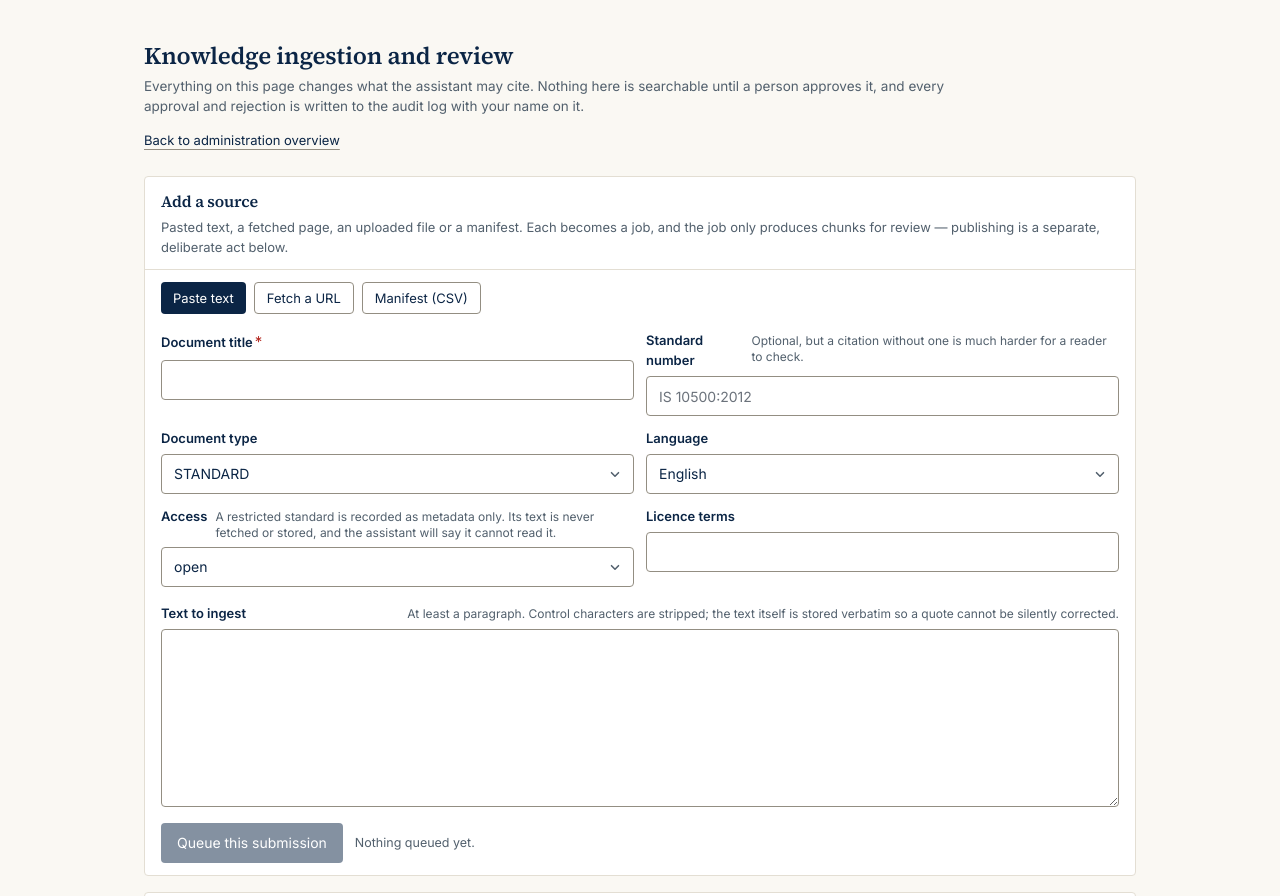
Test: the knowledge admin page › renders a throttled submission as a rate limit, with the server message
Click the button "Fetch a URL" at coordinates (304, 298), box [254,282,354,314]
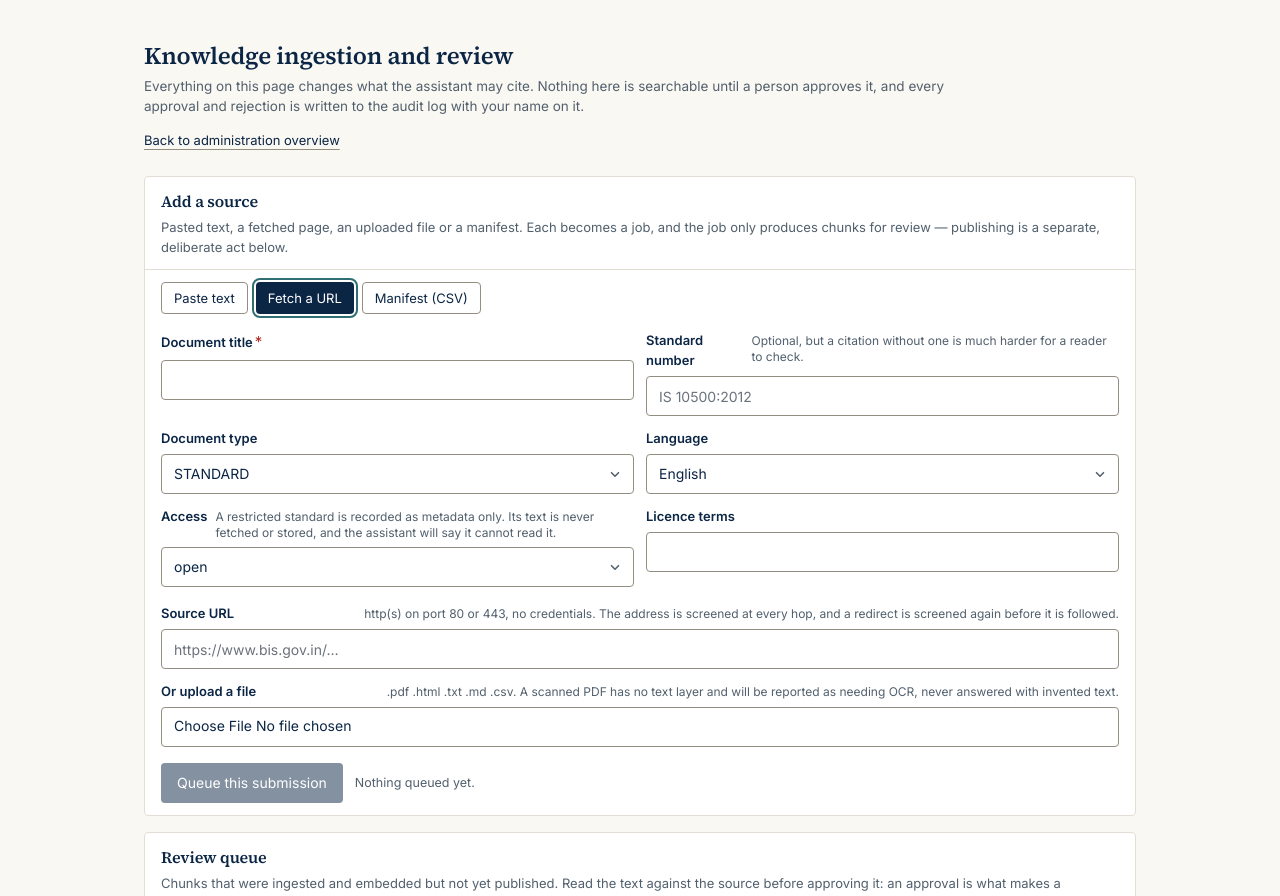
Type "IS 4029:2010" into the field labelled "Document title" at coordinates (398, 380), box [161,360,634,400]
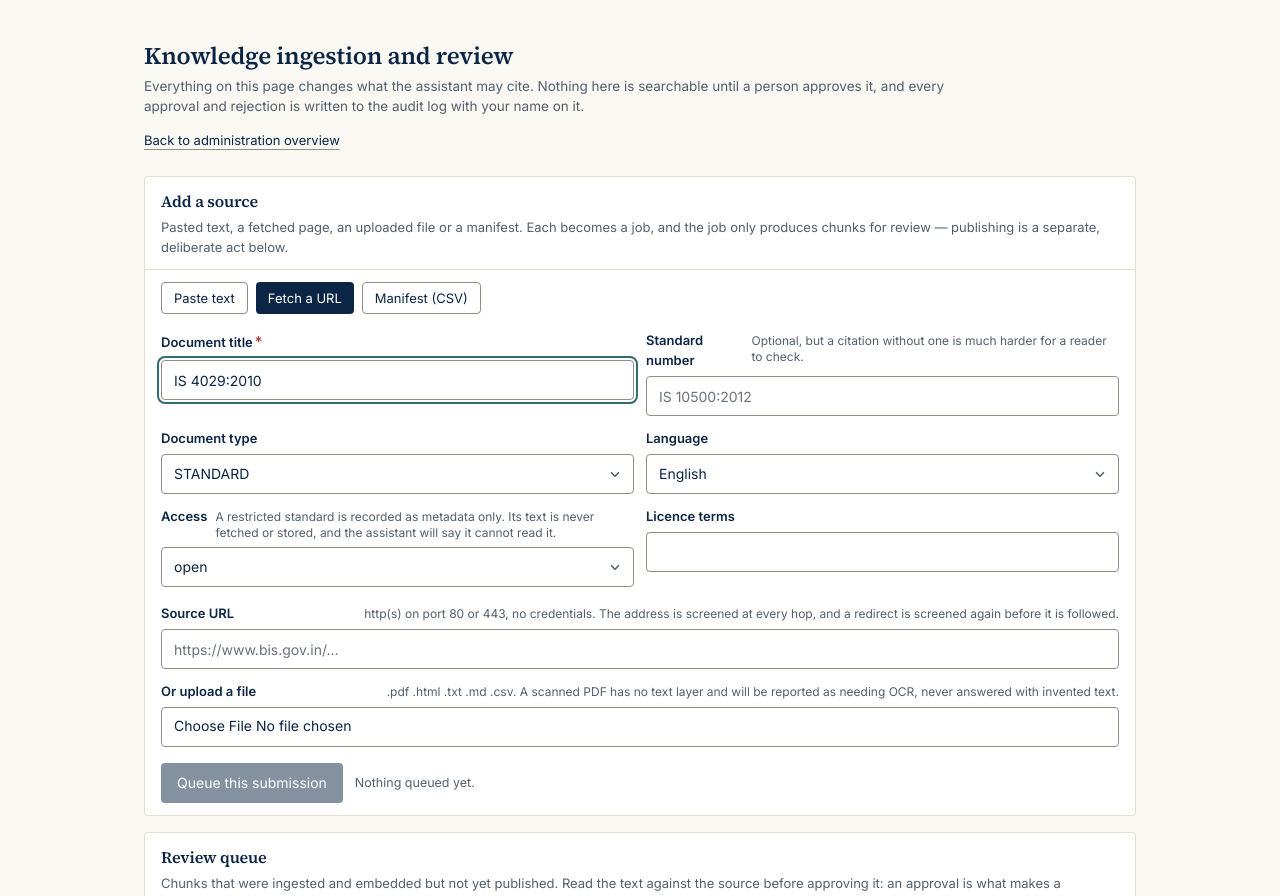
Type "https://www.bis.gov.in/standards/is-4029" into the field labelled "Source URL" at coordinates (640, 649), box [161,629,1119,669]
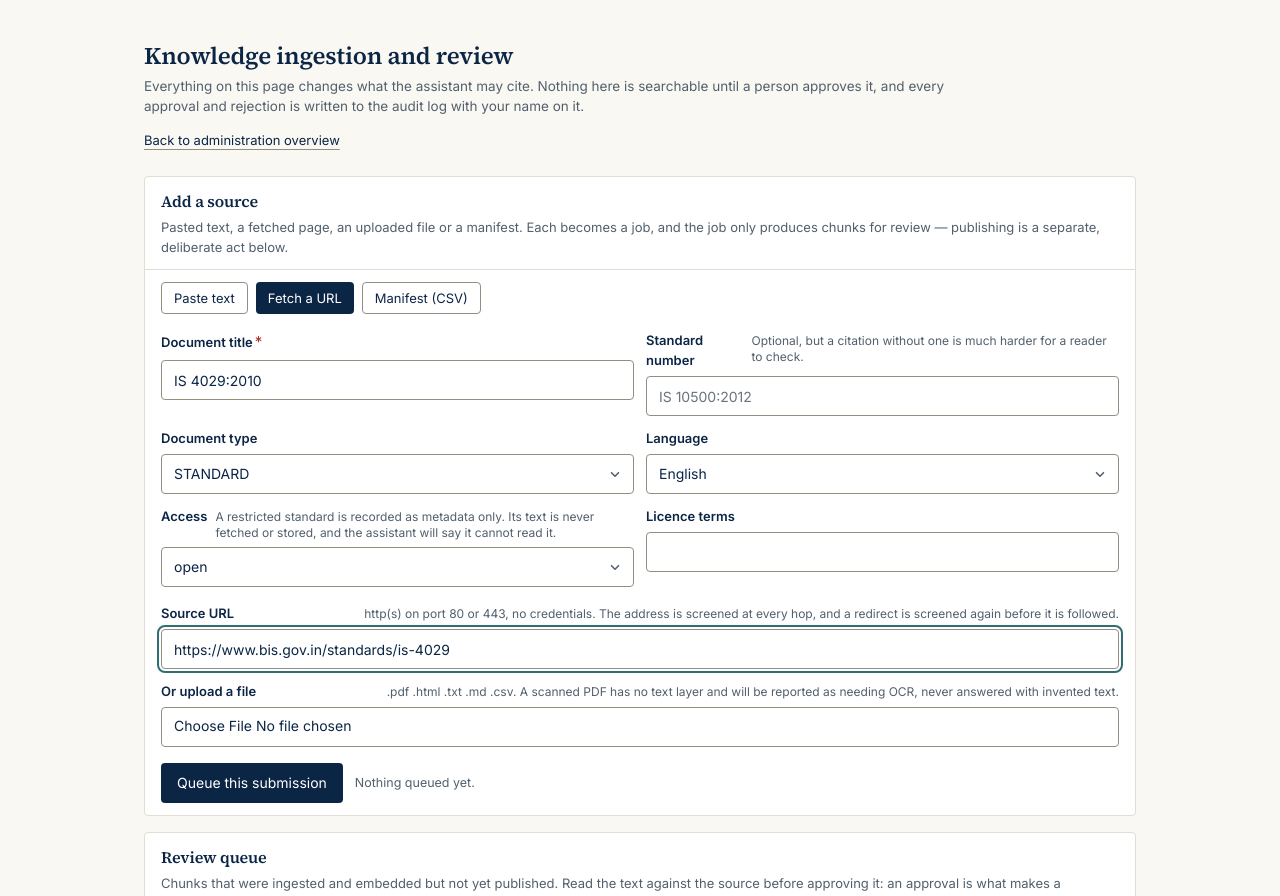
Click the button "Queue this submission" at coordinates (252, 783), box [161,763,343,803]
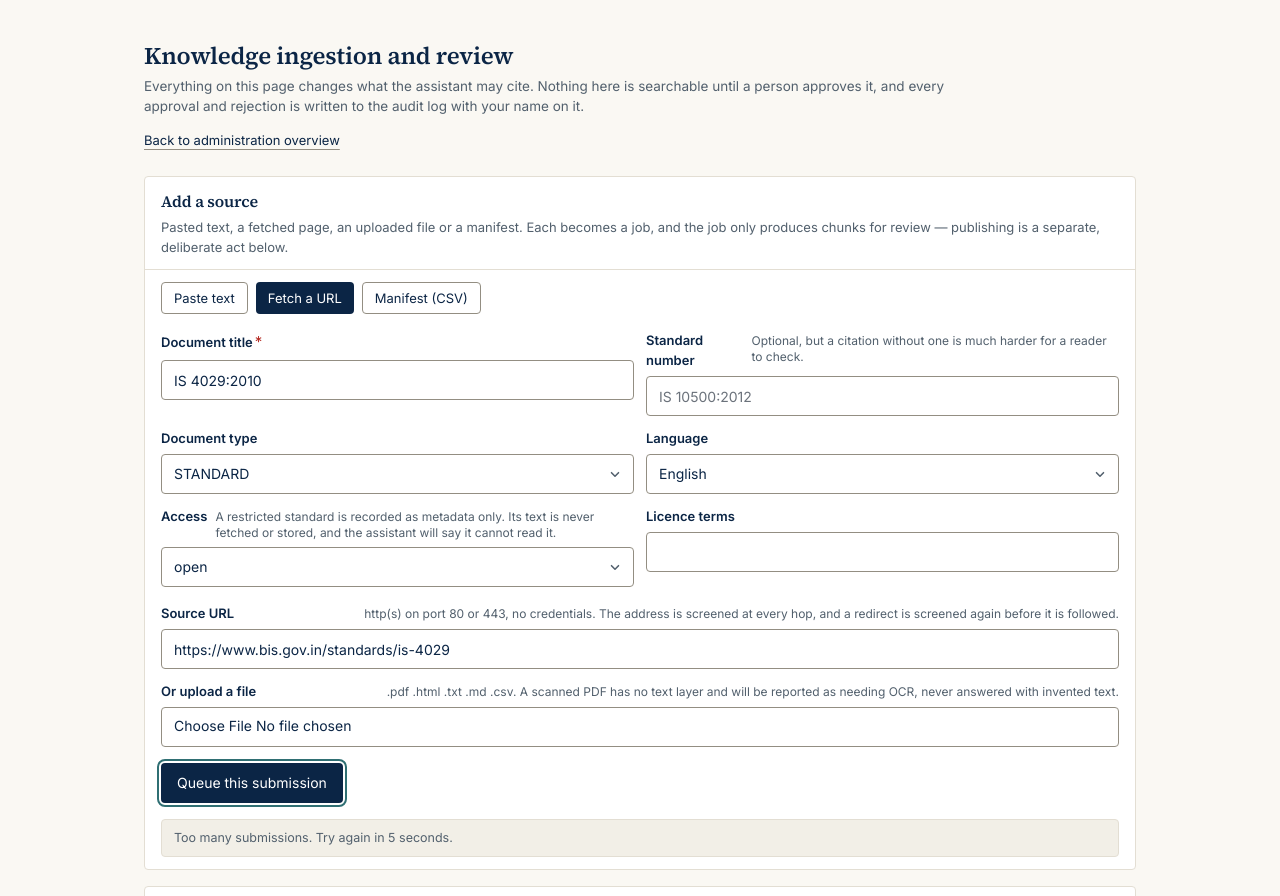
Expected: the text "Too many submissions. Try again in 5 seconds." is shown, [161,819,1119,857]
